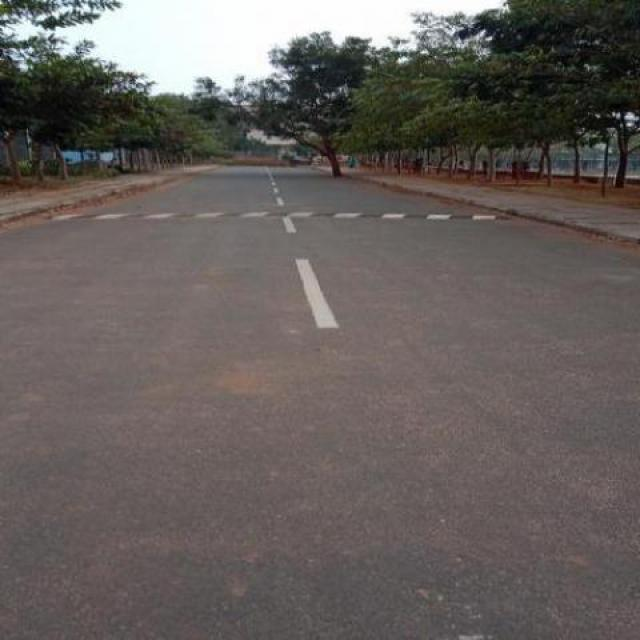Speed Bump: (52, 210, 503, 222)
